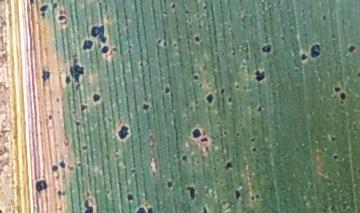tarspot: (68, 55, 85, 86), (89, 23, 108, 44), (115, 123, 132, 142), (309, 39, 322, 61), (39, 67, 52, 88), (184, 183, 197, 202), (242, 40, 252, 64), (132, 204, 157, 213), (252, 67, 266, 83), (33, 178, 49, 192), (259, 41, 274, 55), (81, 198, 94, 213), (189, 127, 203, 140), (80, 39, 95, 51), (204, 91, 215, 105), (99, 45, 111, 56), (124, 191, 135, 202), (56, 188, 68, 198), (58, 157, 67, 170), (63, 73, 72, 86), (162, 84, 172, 95), (78, 103, 88, 114), (38, 3, 49, 13), (129, 166, 139, 177), (348, 43, 357, 55), (224, 160, 233, 172), (141, 102, 151, 112), (91, 92, 101, 102), (165, 179, 175, 189), (193, 34, 201, 46), (181, 153, 189, 165), (57, 12, 67, 21), (200, 204, 210, 213), (249, 135, 258, 145), (105, 115, 114, 125), (339, 90, 347, 101), (331, 84, 342, 92), (234, 189, 241, 201), (126, 43, 133, 55), (300, 52, 309, 61), (50, 163, 59, 172), (46, 112, 55, 121), (329, 32, 338, 41), (51, 1, 59, 11), (162, 39, 169, 50), (225, 95, 233, 104), (192, 73, 200, 82), (74, 82, 82, 91), (251, 146, 259, 155), (292, 65, 300, 74), (269, 89, 277, 98), (183, 8, 191, 17), (175, 36, 183, 45), (170, 1, 177, 11), (104, 188, 111, 198), (219, 86, 225, 97), (249, 193, 255, 204), (329, 134, 337, 142), (73, 119, 81, 127), (81, 144, 89, 152), (194, 6, 202, 14), (75, 159, 82, 168), (201, 136, 208, 145), (320, 95, 327, 104), (257, 103, 263, 113), (321, 13, 328, 21), (67, 165, 75, 172), (324, 111, 331, 119), (155, 38, 162, 46), (193, 98, 201, 105), (196, 24, 204, 31), (331, 93, 339, 100), (219, 50, 226, 58), (38, 12, 47, 18), (221, 130, 230, 136), (254, 191, 260, 200), (138, 60, 144, 69), (203, 146, 210, 153), (161, 9, 168, 16), (273, 124, 280, 131), (308, 182, 315, 189), (112, 45, 118, 53), (53, 96, 61, 102), (234, 131, 242, 137), (242, 83, 248, 91), (233, 83, 241, 89), (278, 35, 286, 41), (240, 15, 246, 23), (332, 153, 338, 160), (195, 158, 201, 165), (188, 106, 195, 112), (171, 42, 178, 48), (287, 27, 294, 33), (239, 23, 245, 30), (230, 51, 238, 56), (97, 43, 103, 49), (109, 197, 115, 203), (215, 156, 220, 163), (203, 4, 208, 11), (194, 14, 201, 19), (197, 83, 203, 88), (216, 120, 221, 125), (357, 70, 360, 78), (184, 101, 188, 107)
